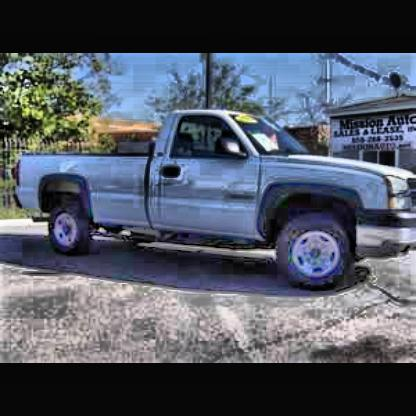Chevrolet Silverado 2500HD Regular Cab 2012: (20, 110, 416, 294)
